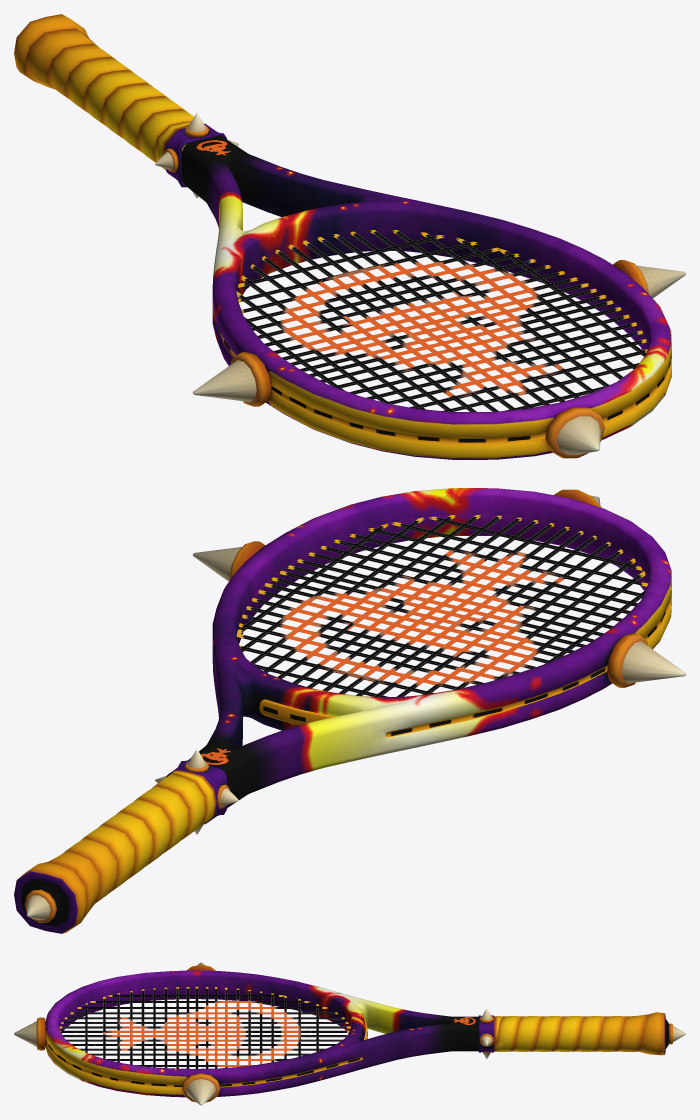
File: RacquetBowserJr.obj
3 renders of one model, top to bottom at view 1: azimuth 30°, elevation 25°; view 2: azimuth 150°, elevation 25°; view 3: azimuth 270°, elevation 25°, orthographic. The views are drawn at different scales.
Parts seen in each view (by area): view 1: TennisRacquet_BowserJr; view 2: TennisRacquet_BowserJr; view 3: TennisRacquet_BowserJr.
Boxes of the visible parts, x1=… form: TennisRacquet_BowserJr: x1=14, y1=14, x2=685, y2=459; TennisRacquet_BowserJr: x1=14, y1=488, x2=685, y2=933; TennisRacquet_BowserJr: x1=14, y1=962, x2=685, y2=1105.
Bounding box in the file's own units: 6.17 × 1.02 × 12.4.
Materials: 2 (2 with a texture image).
